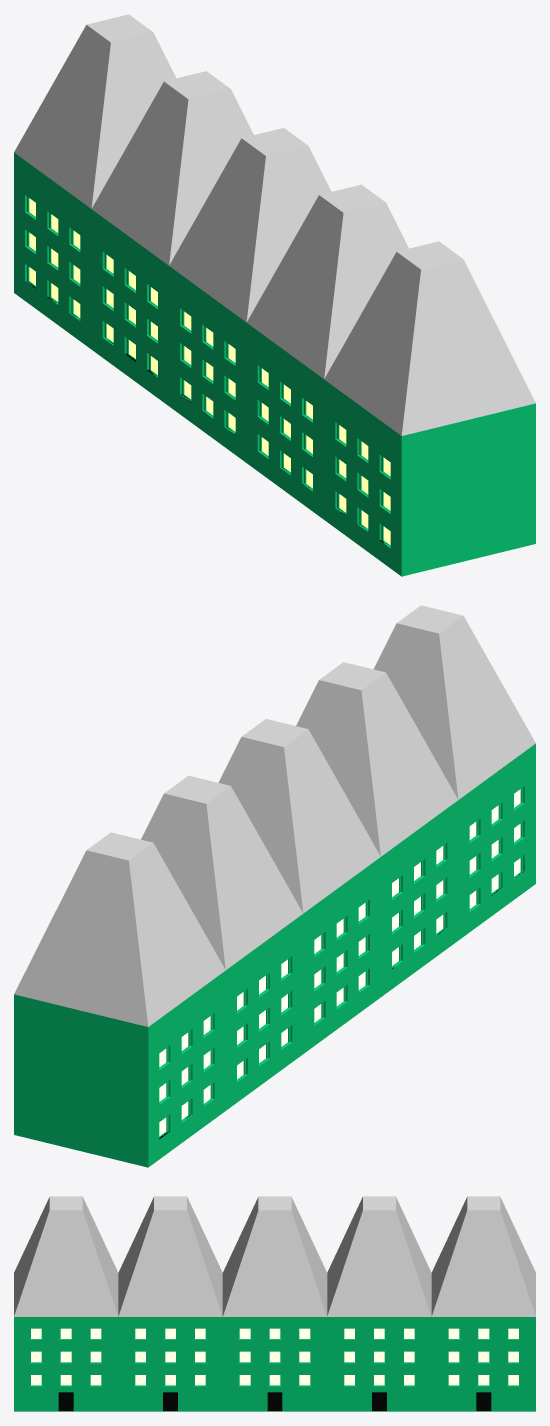
Rendered from 3_storey_house_2.fbx.
3 renders of one model, top to bottom at view 1: azimuth 30°, elevation 25°; view 2: azimuth 150°, elevation 25°; view 3: azimuth 270°, elevation 25°, orthographic. The views are drawn at different scales.
Visible parts, largest first — view 1: Cube; view 2: Cube; view 3: Cube.
Part boxes in pixels (x1,y1,x2,y2): Cube: [14, 14, 535, 576]; Cube: [14, 605, 535, 1167]; Cube: [14, 1196, 535, 1411].
Size of the model in its own units: 28 by 55.07 by 140.
